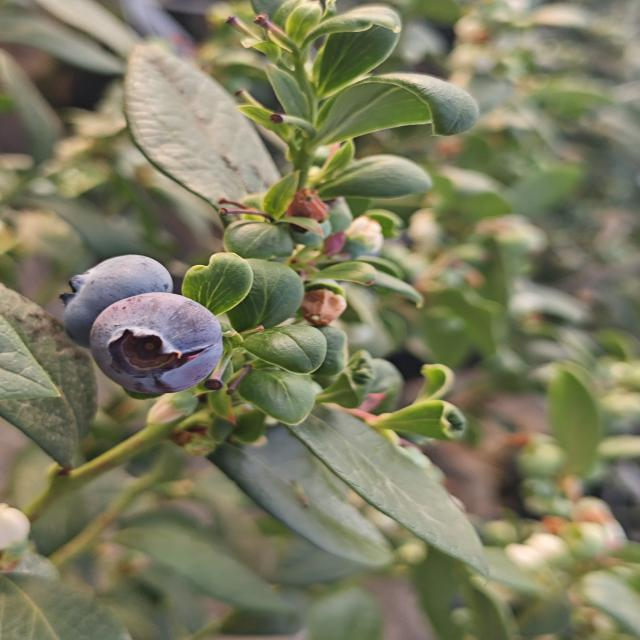ripe: (86, 290, 227, 400), (56, 252, 176, 349)
